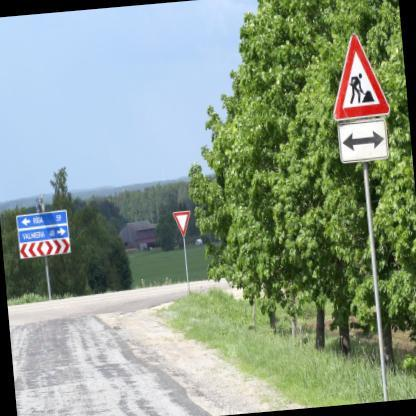road_sign: (333, 34, 389, 121), (337, 118, 388, 164), (19, 238, 70, 259), (171, 211, 191, 238)
